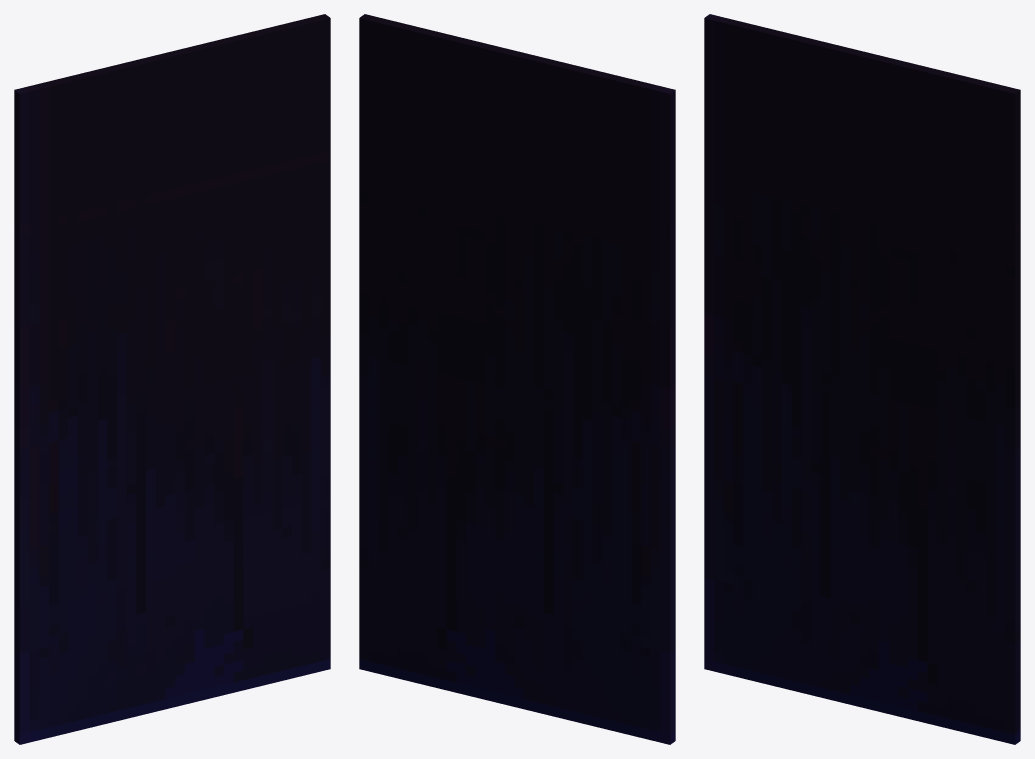
The model's file is powerwalls-1.obj.
3 renders of one model, left to right at view 1: azimuth 30°, elevation 25°; view 2: azimuth 150°, elevation 25°; view 3: azimuth 330°, elevation 25°, orthographic.
Size of the model in its own units: 3.2 by 6.4 by 0.1.
